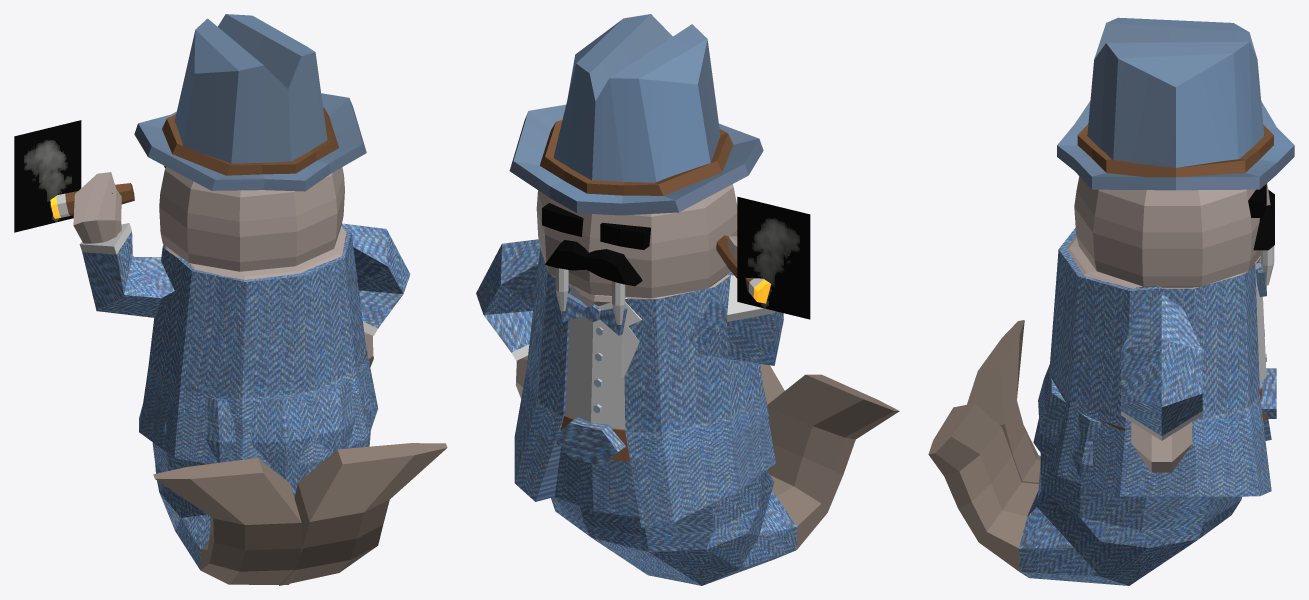
Rendered from auctioneer.fbx.
The picture shows the model from 3 angles, left to right: view 1: azimuth 30°, elevation 25°; view 2: azimuth 150°, elevation 25°; view 3: azimuth 270°, elevation 25°; orthographic projection. The views are drawn at different scales.
Parts seen in each view (by area): view 1: Cylinder.005; view 2: Cylinder.005; view 3: Cylinder.005.
Part boxes in pixels (x1,y1,x2,y2): Cylinder.005: [14, 14, 447, 585]; Cylinder.005: [476, 14, 899, 585]; Cylinder.005: [928, 17, 1294, 585].
Size of the model in its own units: 458 by 621 by 381.
Materials: 10 (3 with a texture image).
